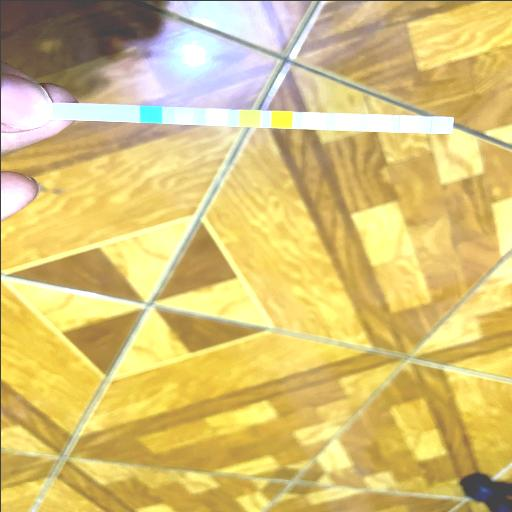Bilirubin: (172, 107, 194, 123)
Blood: (271, 110, 291, 126)
Glucose: (140, 106, 162, 122)
Ketone: (204, 108, 226, 124)
Leukocytes: (432, 116, 452, 132)
Nitrite: (398, 116, 418, 132)
Protein: (336, 113, 356, 129)
SpGravity: (238, 110, 259, 126)
Urobilinogen: (366, 114, 386, 130)
pH: (303, 112, 323, 128)
strip: (55, 101, 454, 133)
